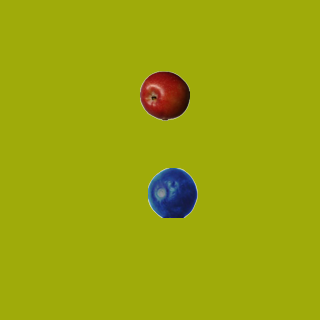Apple Braeburn: (139, 70, 189, 120)
Huckleberry: (147, 167, 197, 217)
